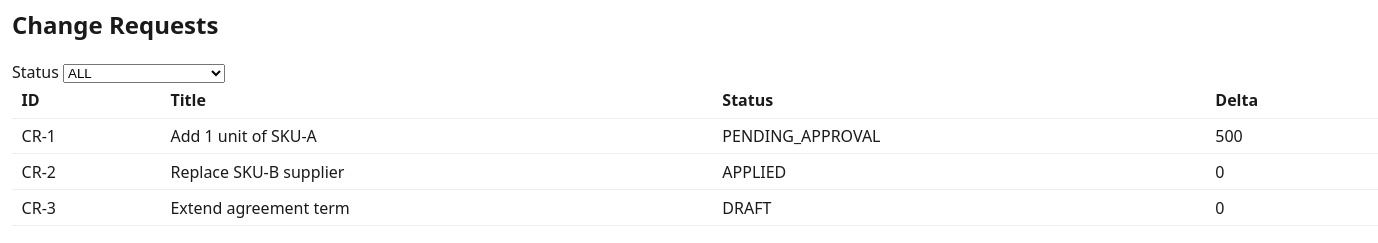
CrListComponent › filters the rendered rows by status
Select "DRAFT" in the dropdown with class "cr-list__filter": (144, 73) 63,64 -> 225,83
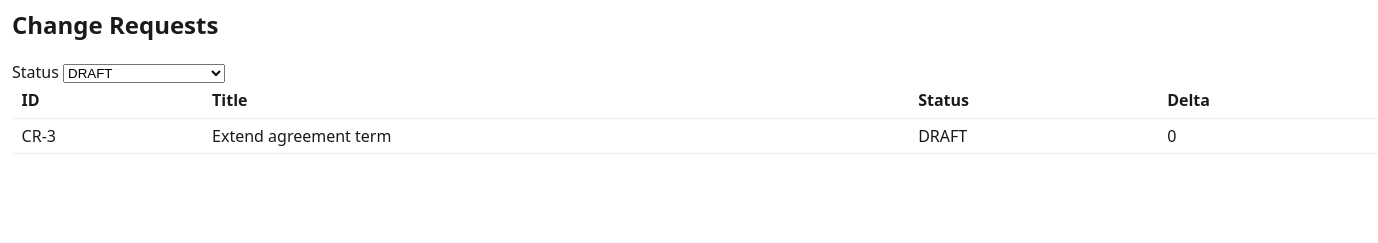
Check: the row with class "cr-list__row" shows "CR-3", box 22,125 -> 56,147
Check: the number of rows with class "cr-list__row" is 1, box 12,118 -> 1377,154
